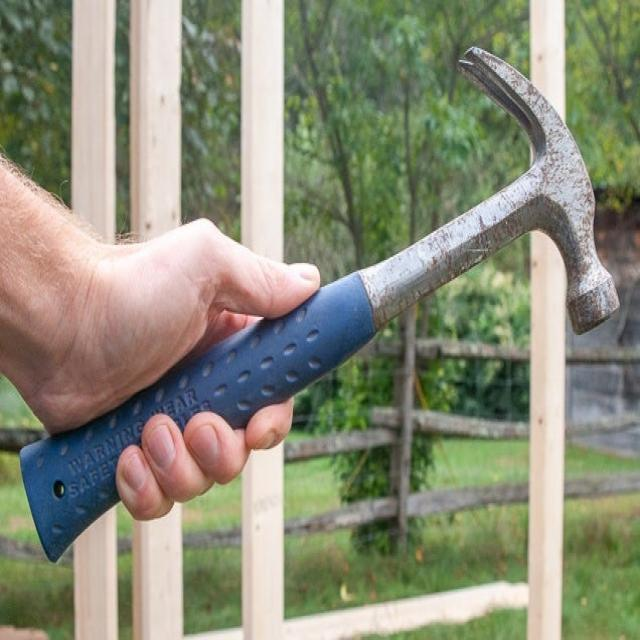hammer: (14, 40, 622, 571)
